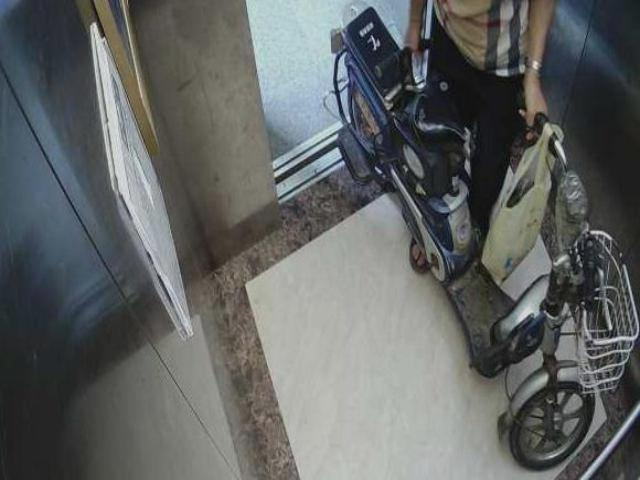emotor: (328, 29, 611, 470)
